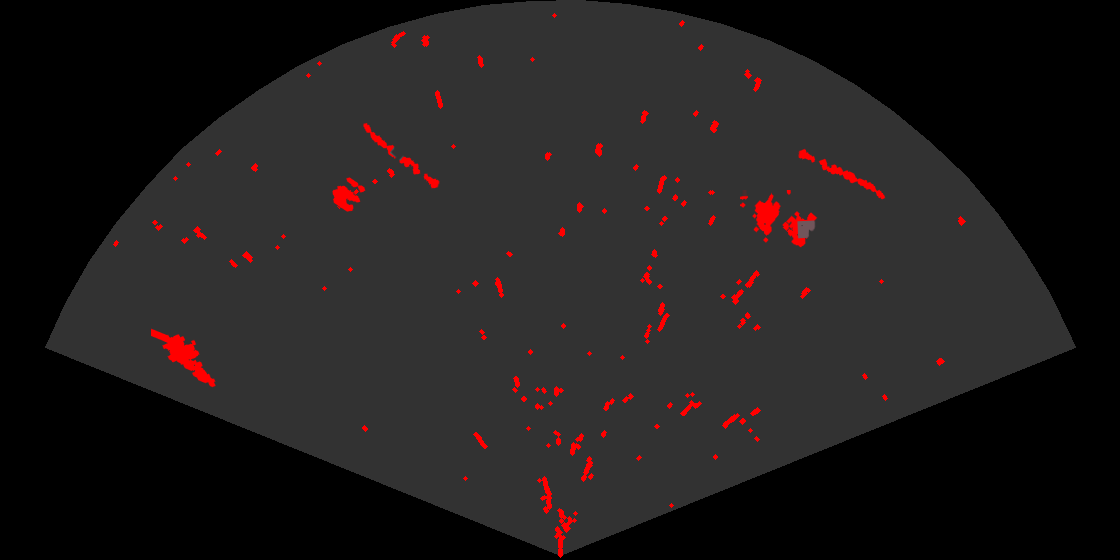ball: (331, 176, 367, 213)
cage: (740, 190, 819, 249)
chain: (362, 121, 441, 190), (796, 147, 887, 201)
frogman: (151, 327, 217, 389)
